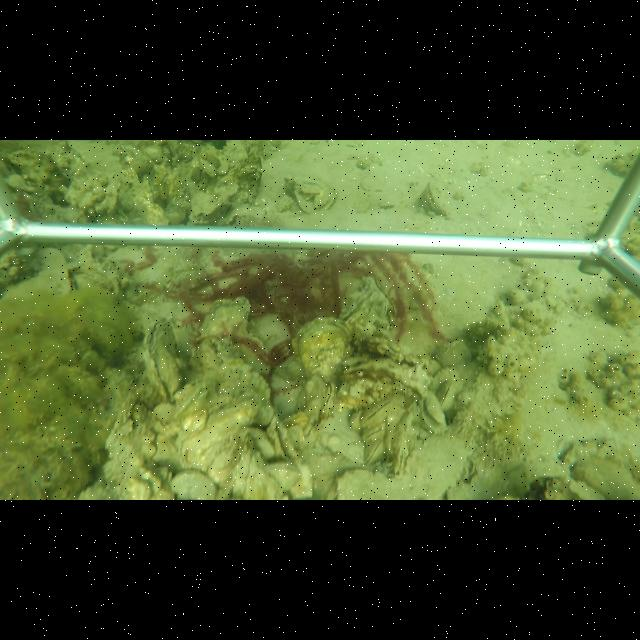Oyster-Closed: (198, 297, 274, 381), (290, 314, 355, 395), (339, 274, 397, 350), (142, 314, 185, 406), (189, 172, 241, 227), (171, 468, 220, 500), (393, 410, 416, 477), (420, 179, 448, 217), (360, 399, 396, 427), (362, 436, 386, 468), (435, 379, 458, 409)
Oyster-Open: (418, 391, 451, 435)
